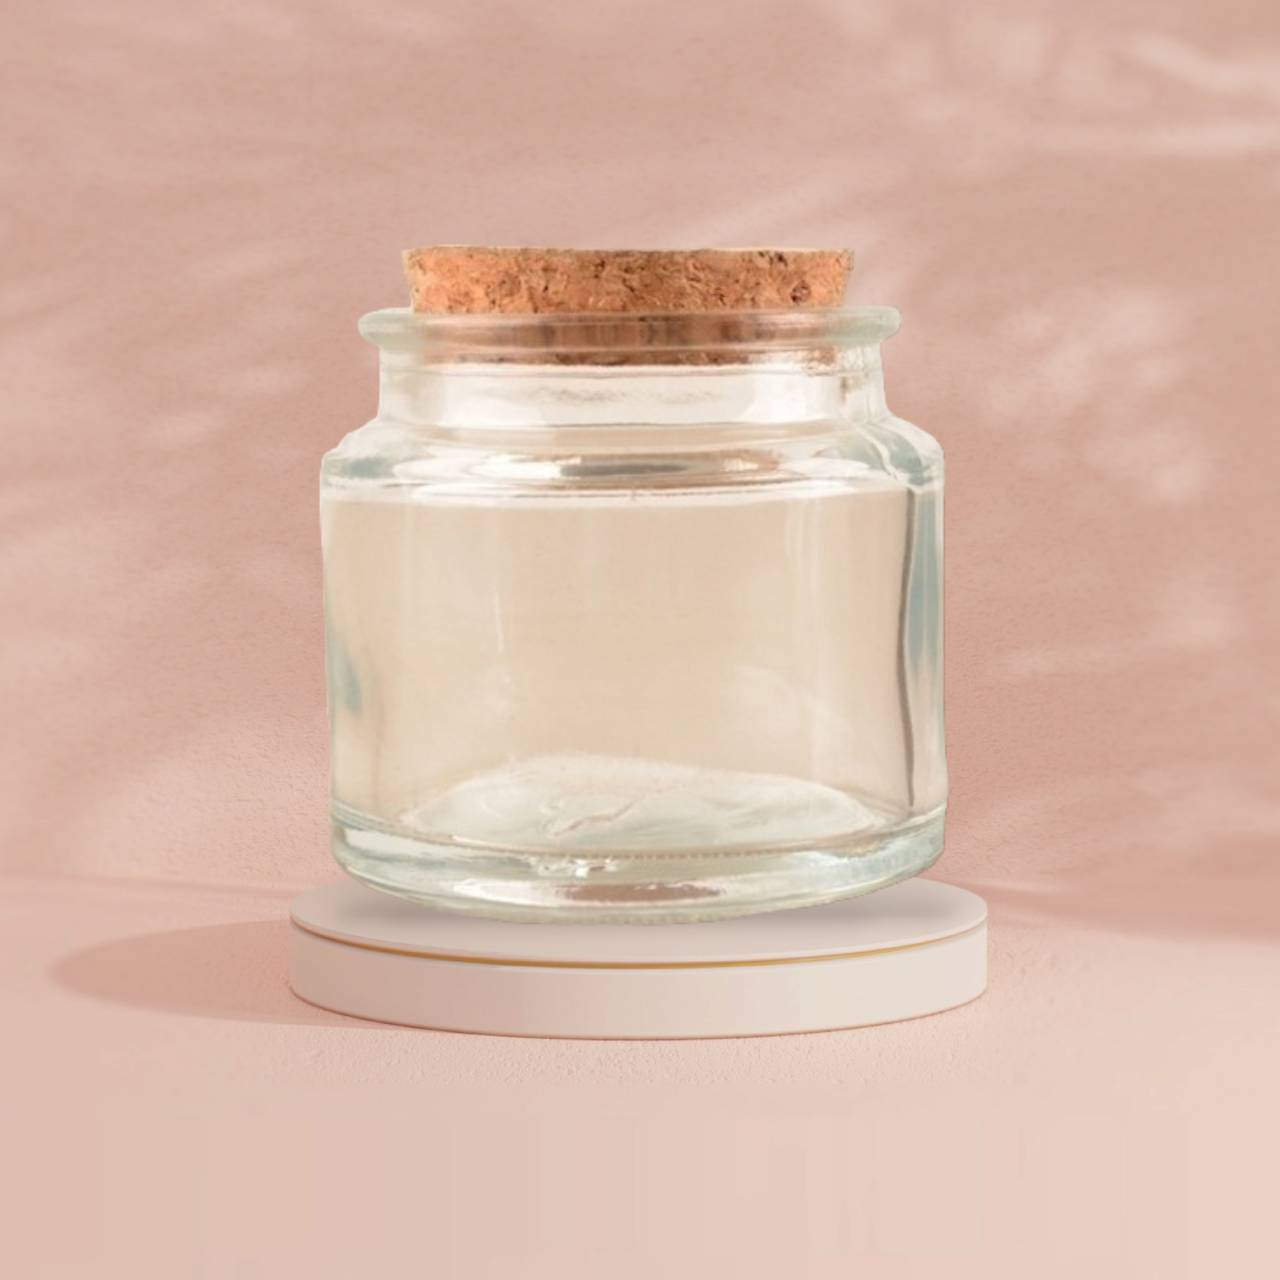glass_bottle: (302, 236, 966, 931)
